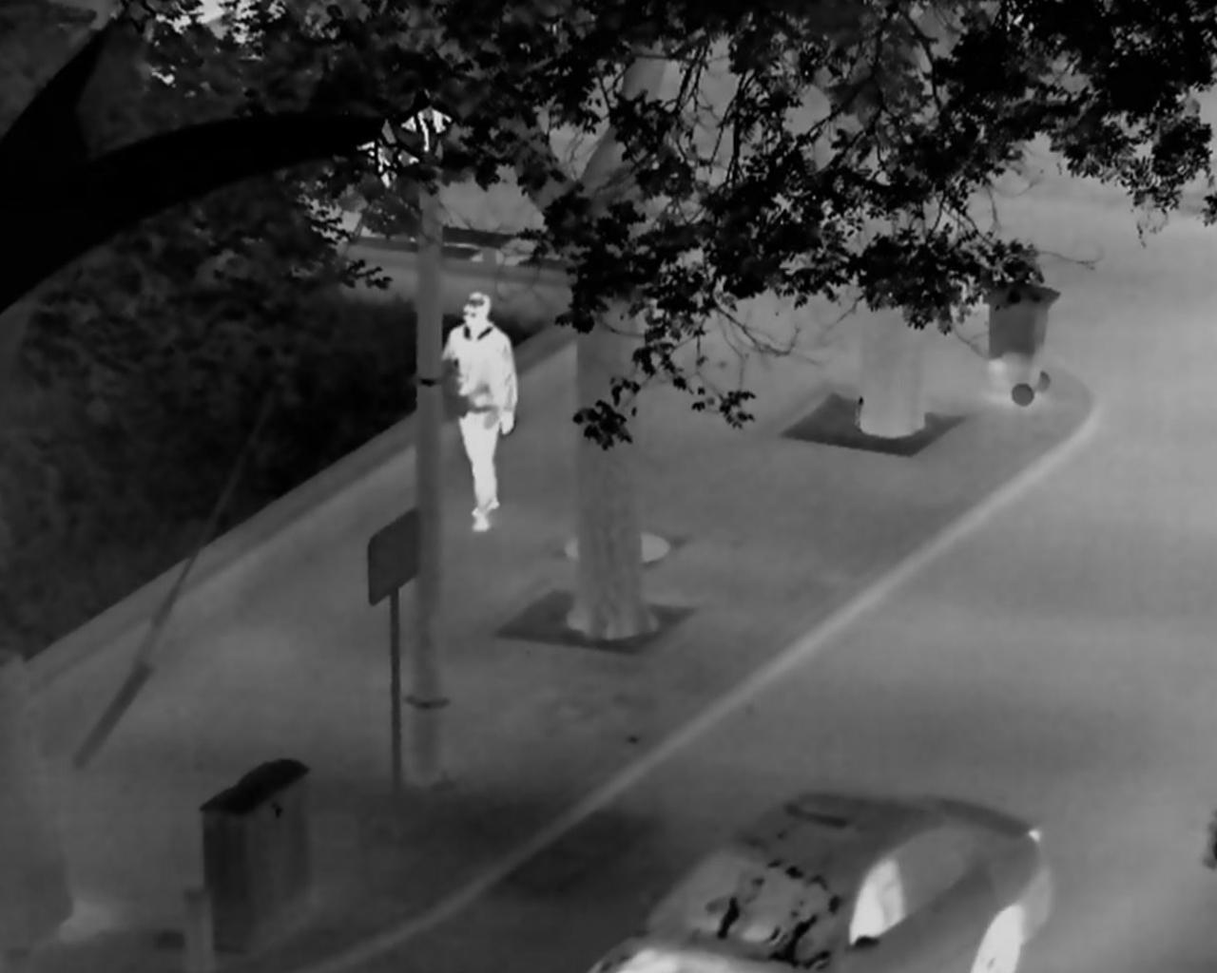person: (440, 291, 518, 532)
